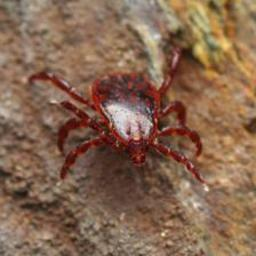Rhipicephalus sanguineus: (28, 45, 204, 185)
